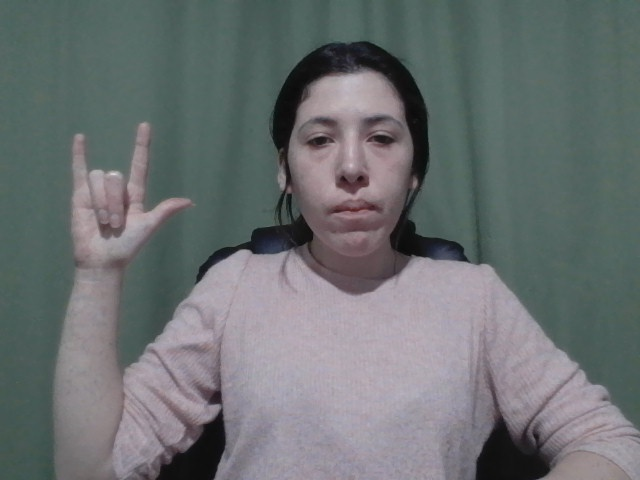AMOR: (63, 120, 196, 279)
